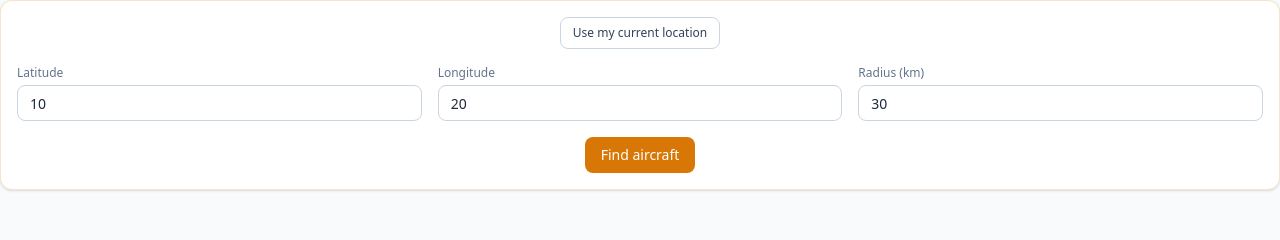
Test: FlyOverForm › current location › shows an alert and leaves inputs unchanged on error code 1
Click the button "Use my current location".
click(640, 33)  # box [560,17,720,49]
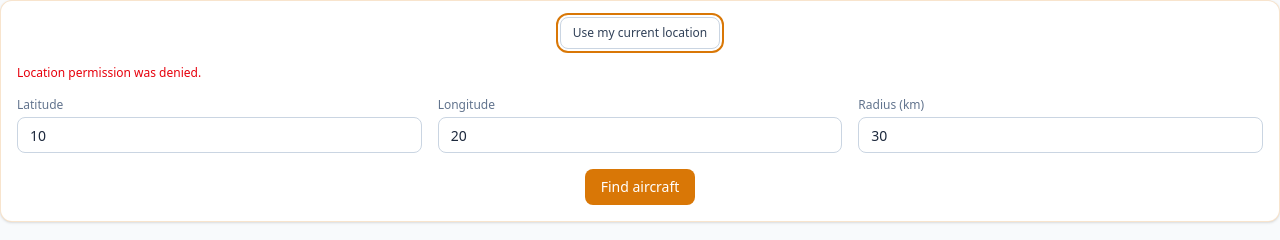
Expected: the field labelled "Latitude" holds "10", [17,117,422,153]
Result: the message shows "permission was denied" at [17,64,201,81]
